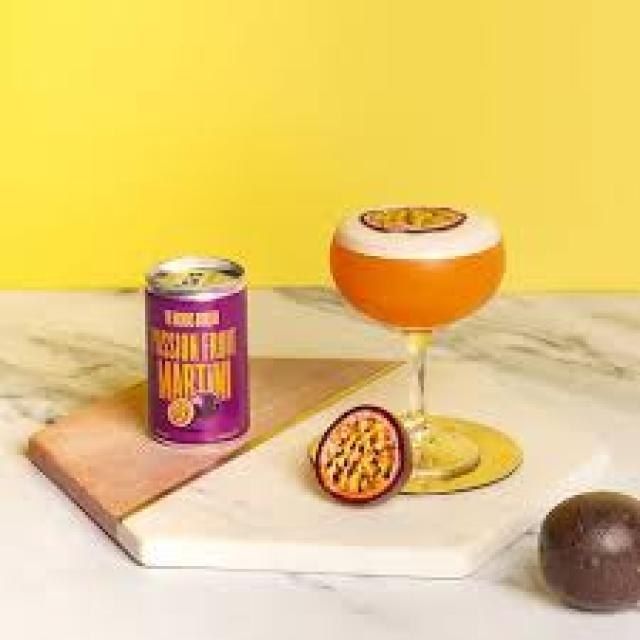Cans: (139, 248, 259, 452)
